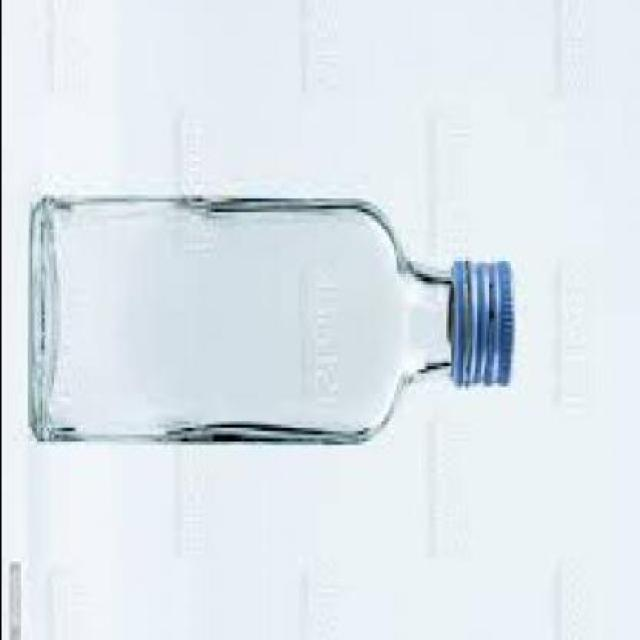glass: (31, 203, 455, 449)
metal: (455, 268, 520, 394)
